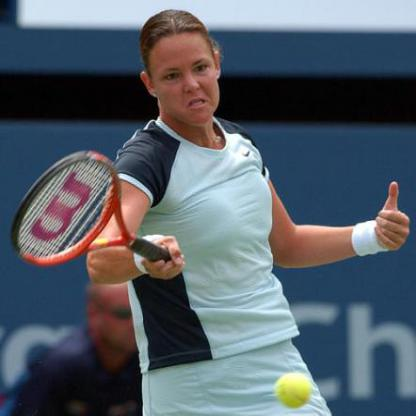face: (149, 12, 219, 127), (98, 279, 156, 353)
